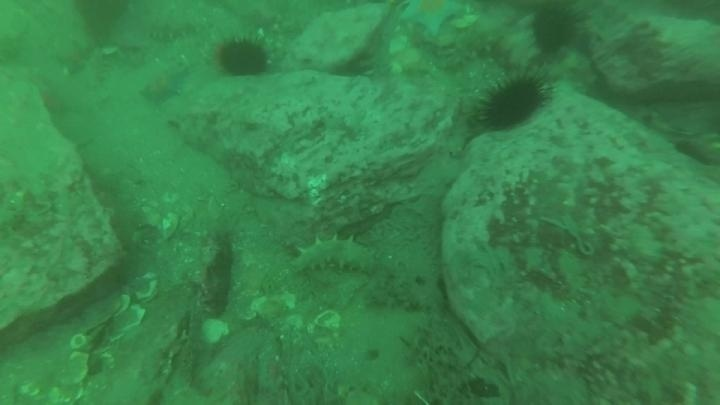echinus: (477, 72, 551, 132), (527, 3, 584, 57), (215, 34, 272, 80), (72, 1, 133, 41)
holothurian: (289, 233, 380, 278), (438, 28, 513, 72), (134, 16, 201, 45)
starfish: (397, 1, 468, 39), (138, 65, 189, 107), (54, 37, 96, 77)
